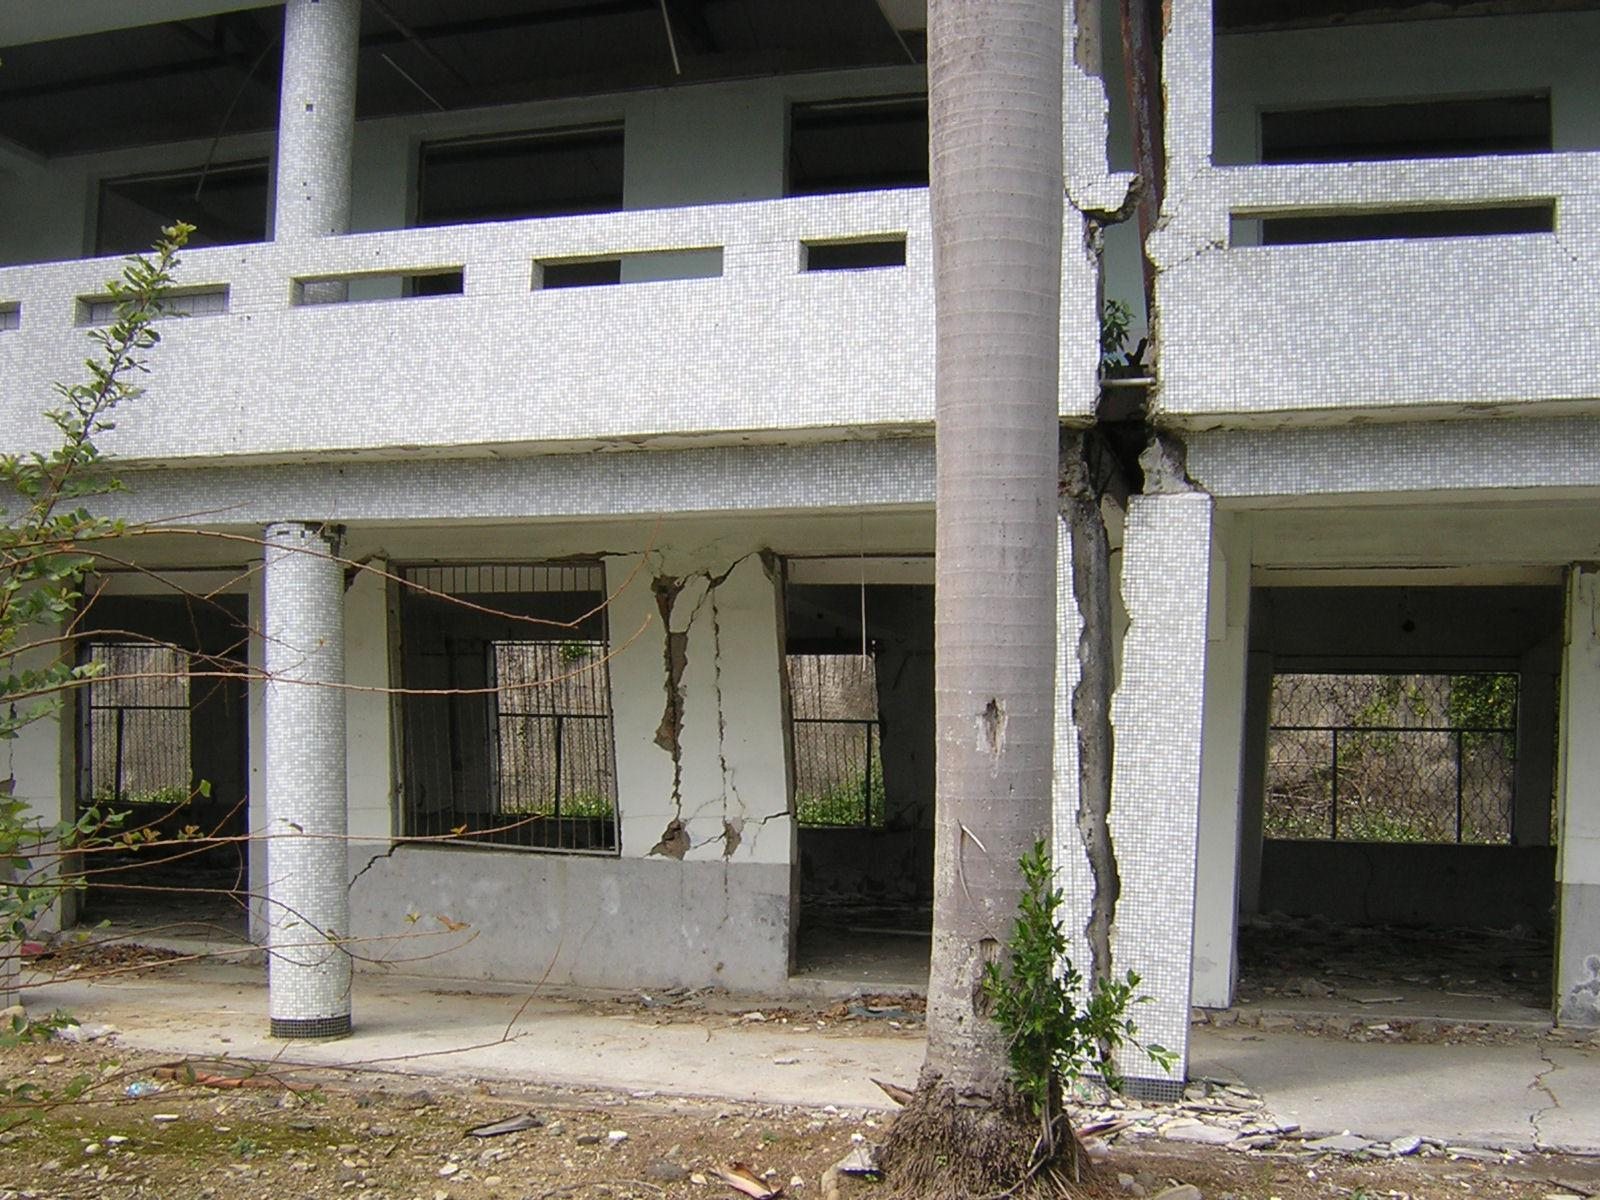crack: (680, 552, 758, 824), (727, 768, 790, 856), (1524, 1047, 1567, 1155), (348, 839, 409, 894), (606, 548, 665, 577), (660, 537, 726, 557), (1158, 190, 1188, 232), (717, 856, 731, 932), (1071, 180, 1119, 197), (1154, 257, 1191, 277), (690, 829, 726, 850), (1555, 234, 1579, 262), (1170, 424, 1227, 434), (1196, 239, 1225, 256), (1065, 188, 1082, 213), (1590, 587, 1597, 638), (1191, 166, 1209, 182), (1577, 571, 1584, 595)
damage: (1061, 0, 1206, 987), (650, 574, 693, 860), (285, 522, 348, 563), (344, 548, 391, 594), (546, 552, 627, 561), (723, 821, 742, 858), (758, 547, 780, 577)
